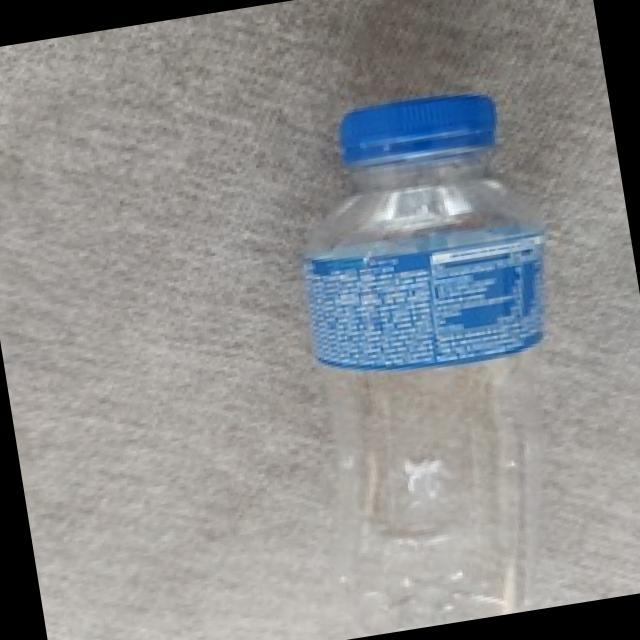good: (256, 50, 606, 635)
